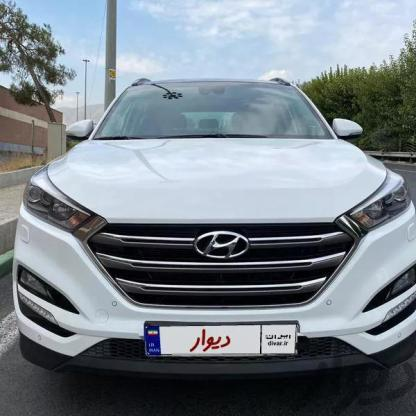Car: (0, 64, 416, 408)
